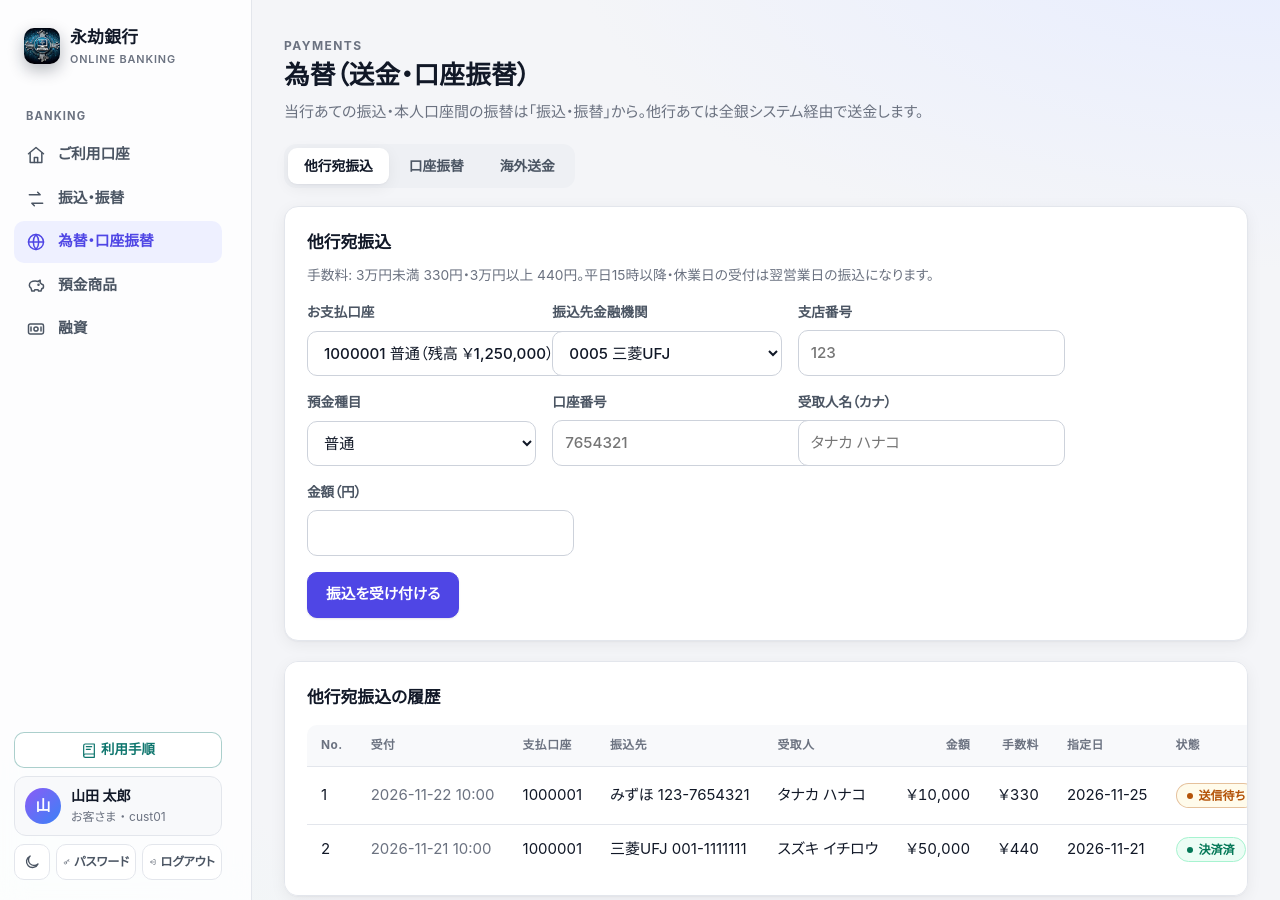
Test: PaymentsPage › 口座振替 › 契約を登録・解約し、引落し状況（不能理由）を表示する
Click the tab "口座振替". click: click(436, 166)
box: [393, 148, 480, 184]
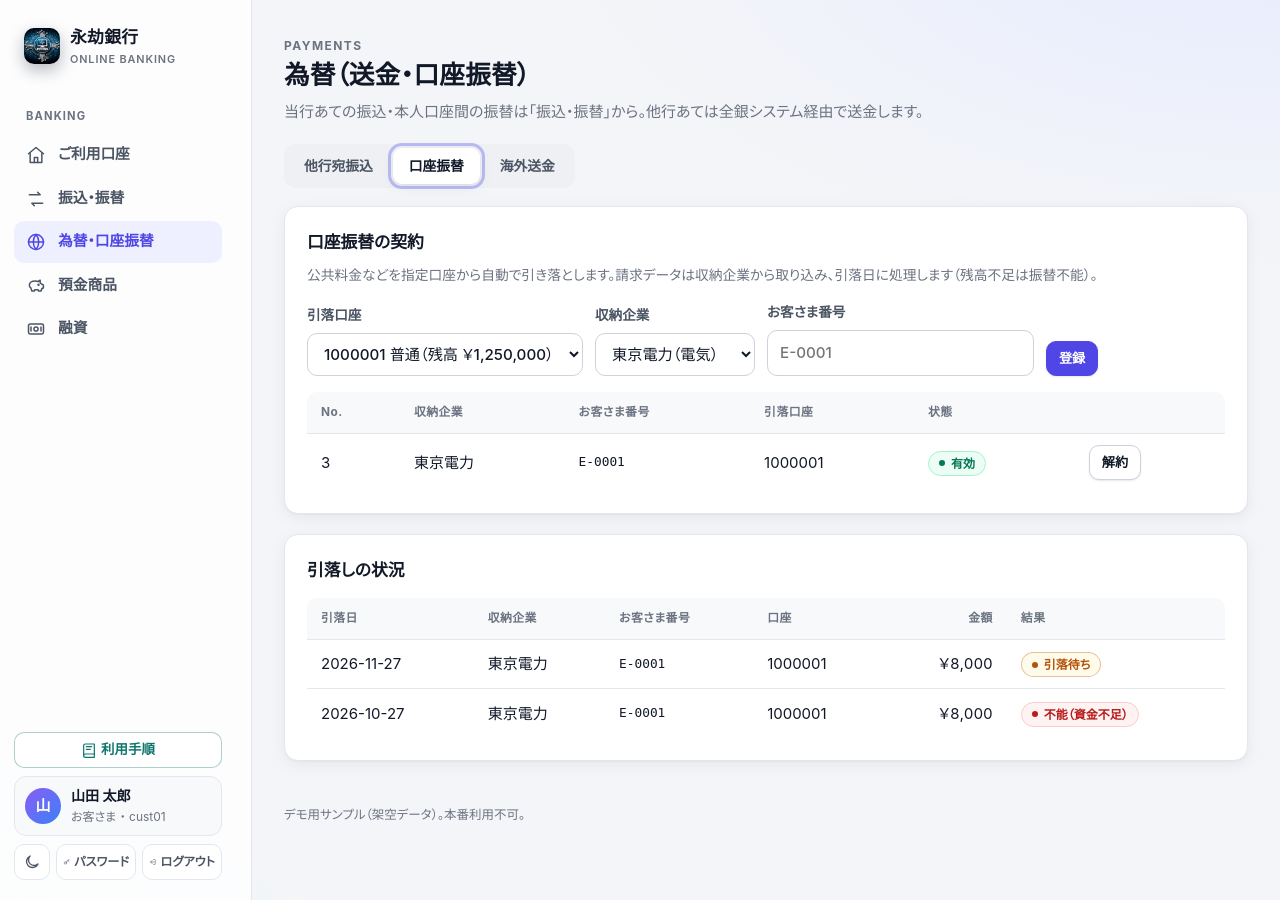
Check: the text "不能（資金不足）" is shown, box [1021, 702, 1139, 727]
Check: the text "引落待ち" is shown, box [1021, 652, 1101, 677]
Select "東京ガス（ガス）" in the dropdown labelled "収納企業". click: (675, 355)
box: [595, 333, 755, 376]
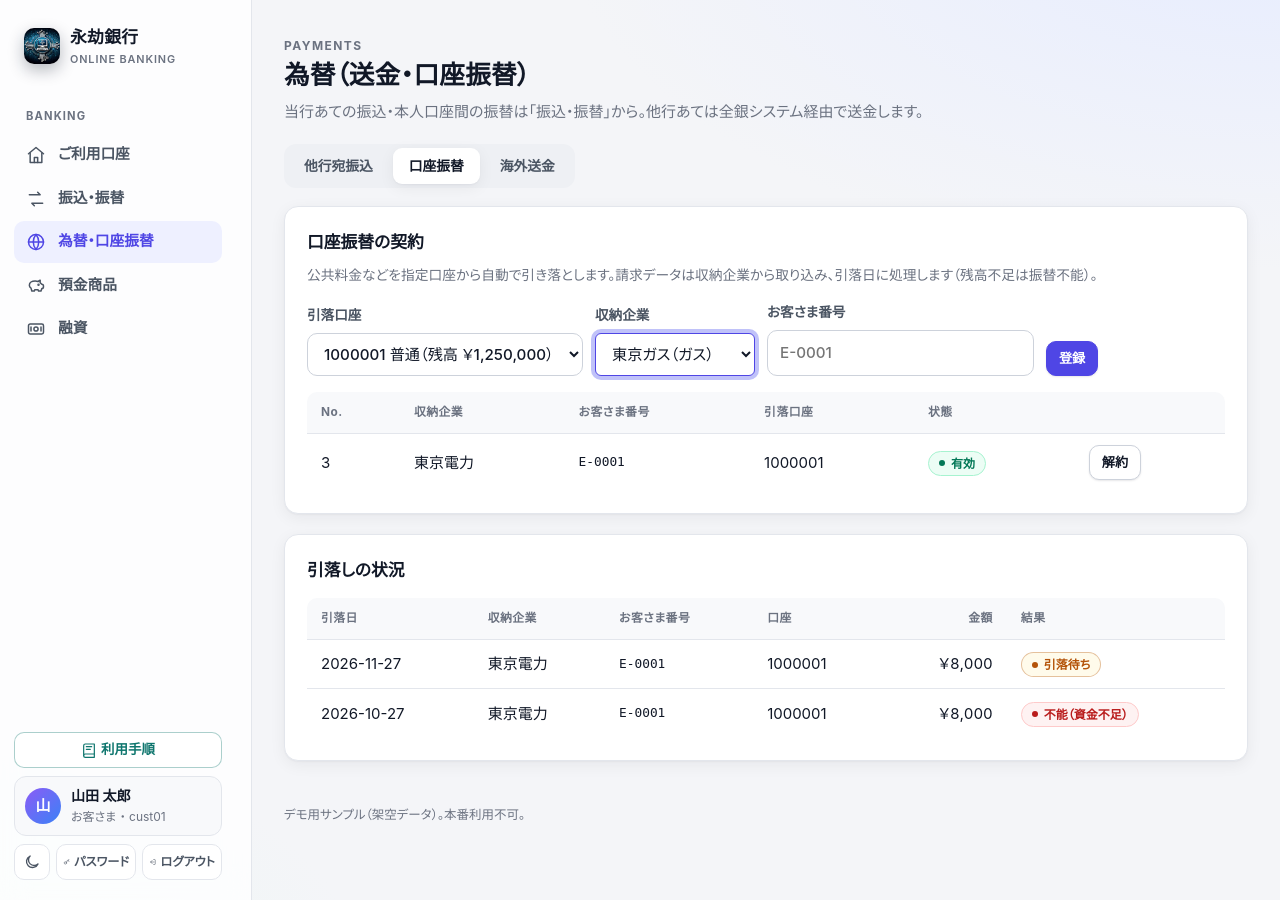
Type "G-0009" into the field labelled "お客さま番号". click: (900, 353)
box: [767, 330, 1034, 376]
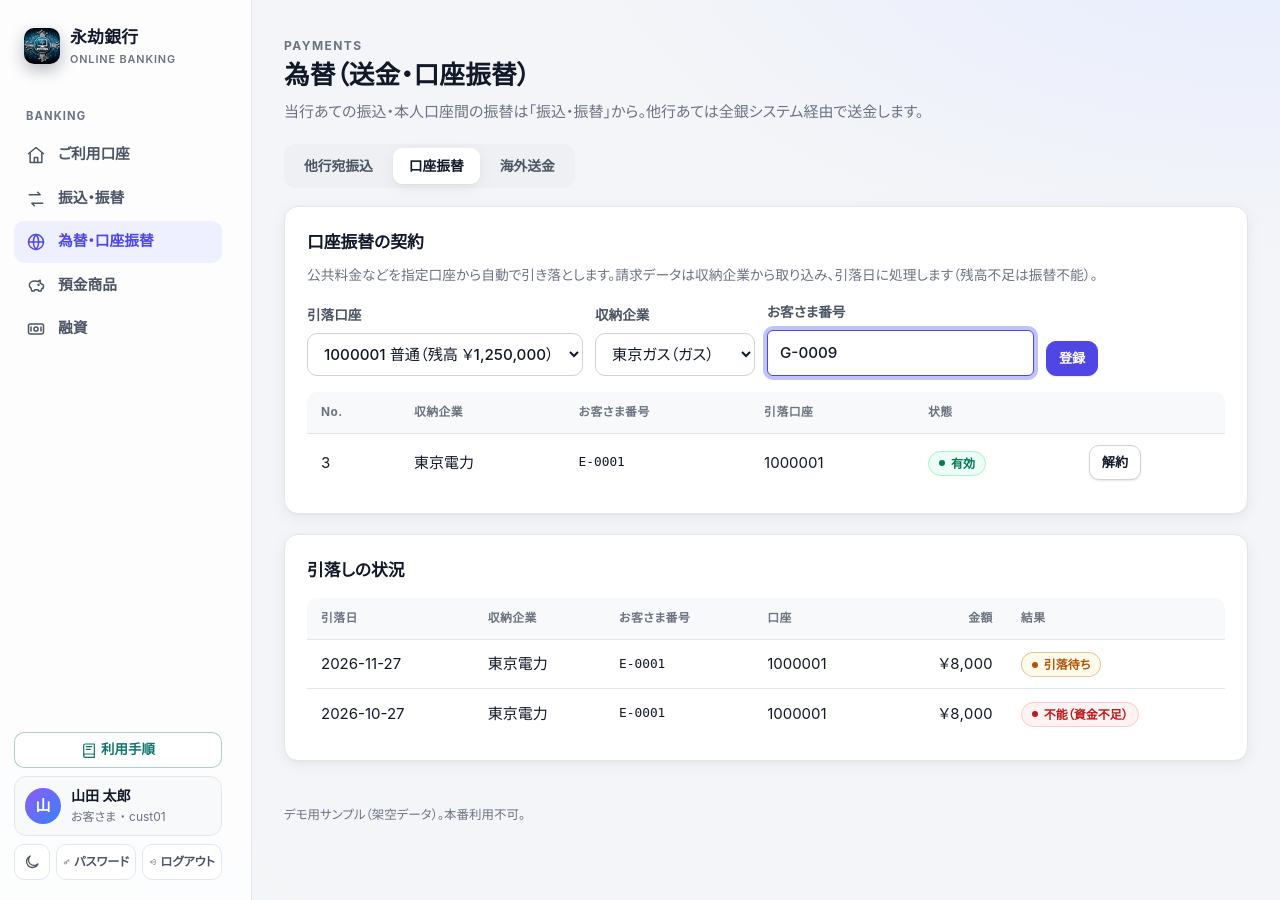
Click the button "登録". click: click(1072, 359)
box: [1046, 341, 1098, 376]
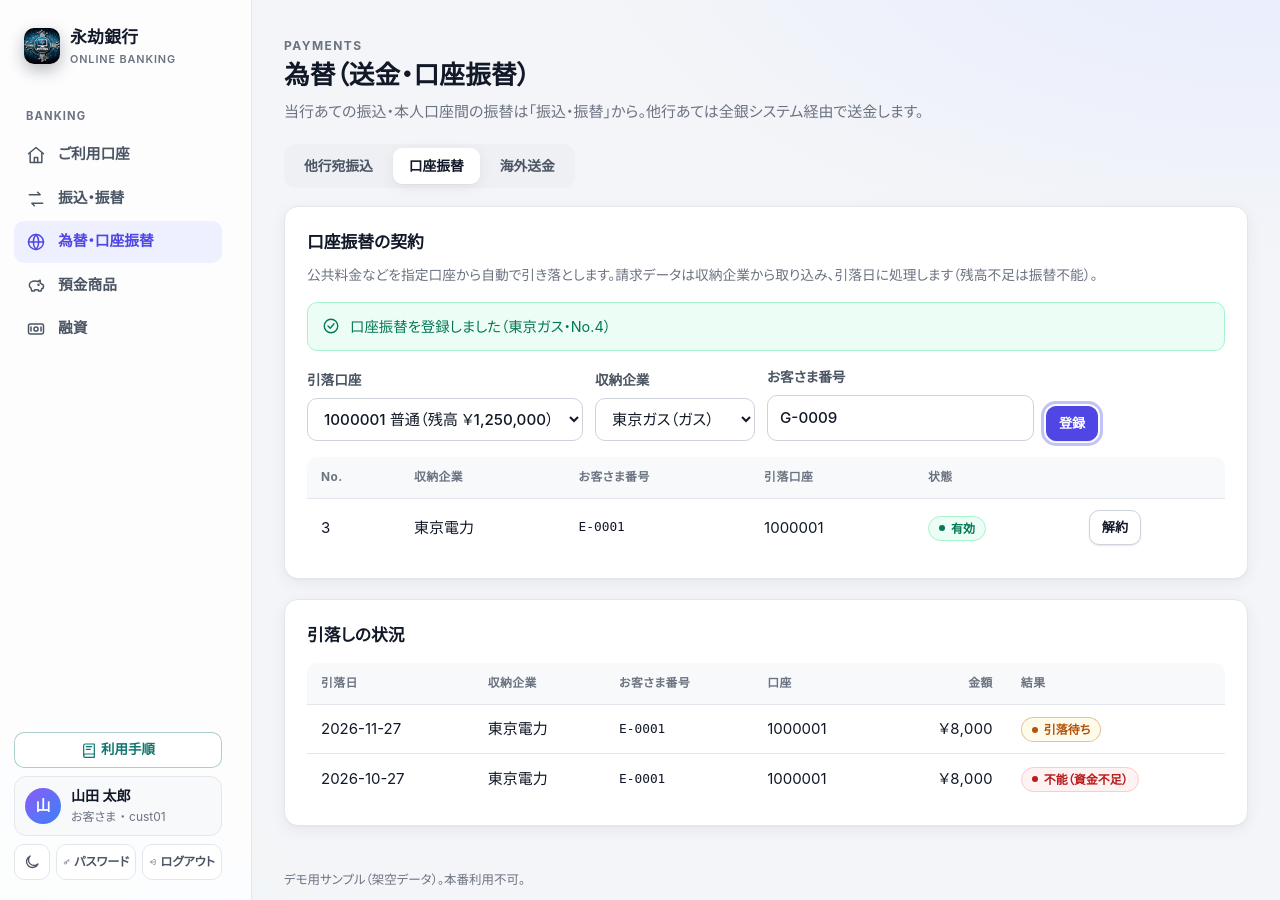
Check: the text "口座振替を登録しました（東京ガス・No.4）" is shown, box [350, 315, 611, 338]
Click the button "解約". click: click(1115, 528)
box: [1089, 510, 1141, 545]
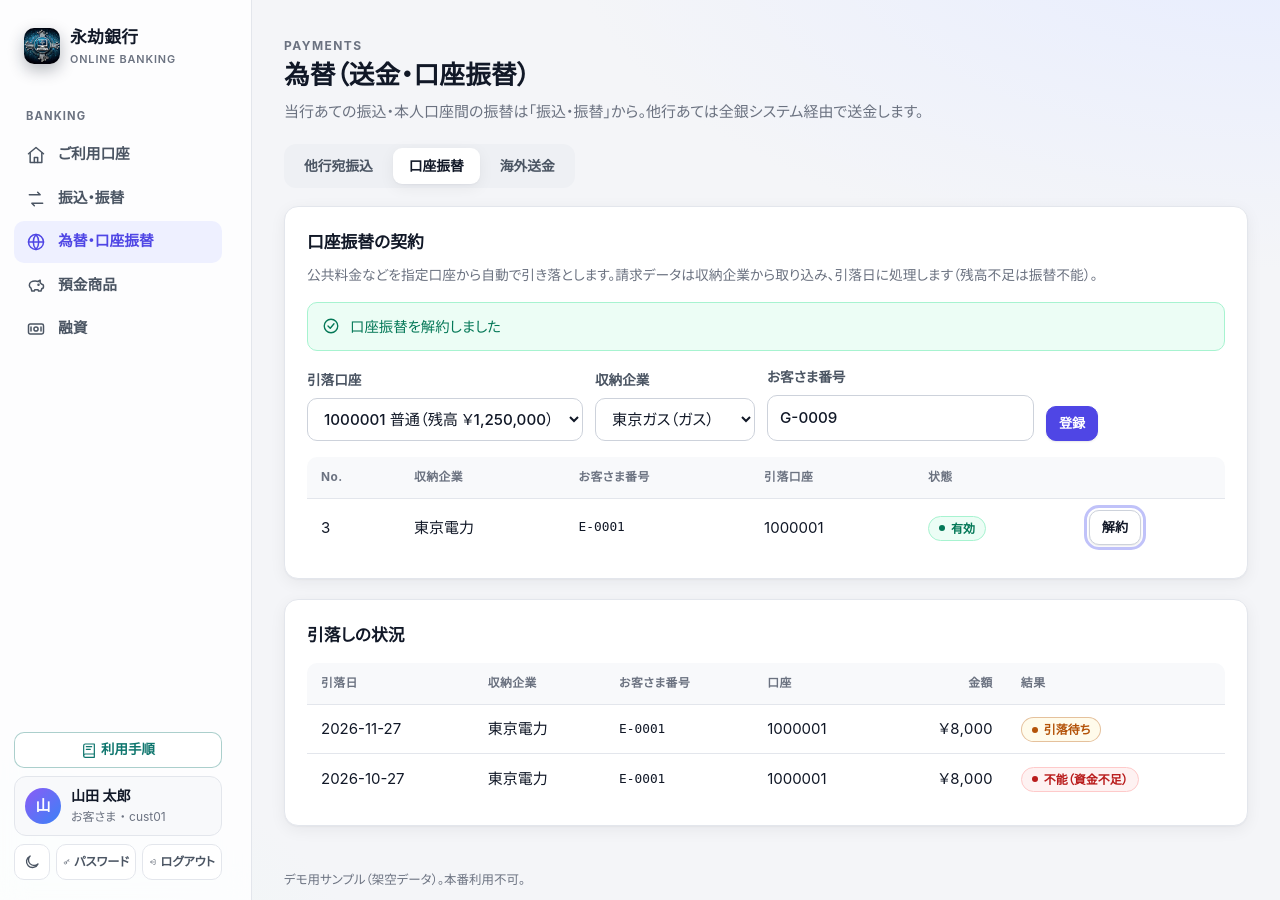
Check: the text "口座振替を解約しました" is shown, box [350, 315, 501, 338]
